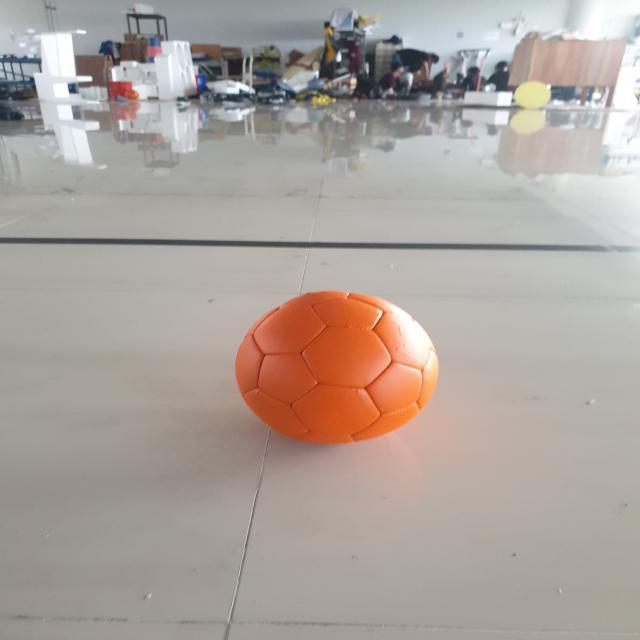bola: (225, 278, 446, 457)
